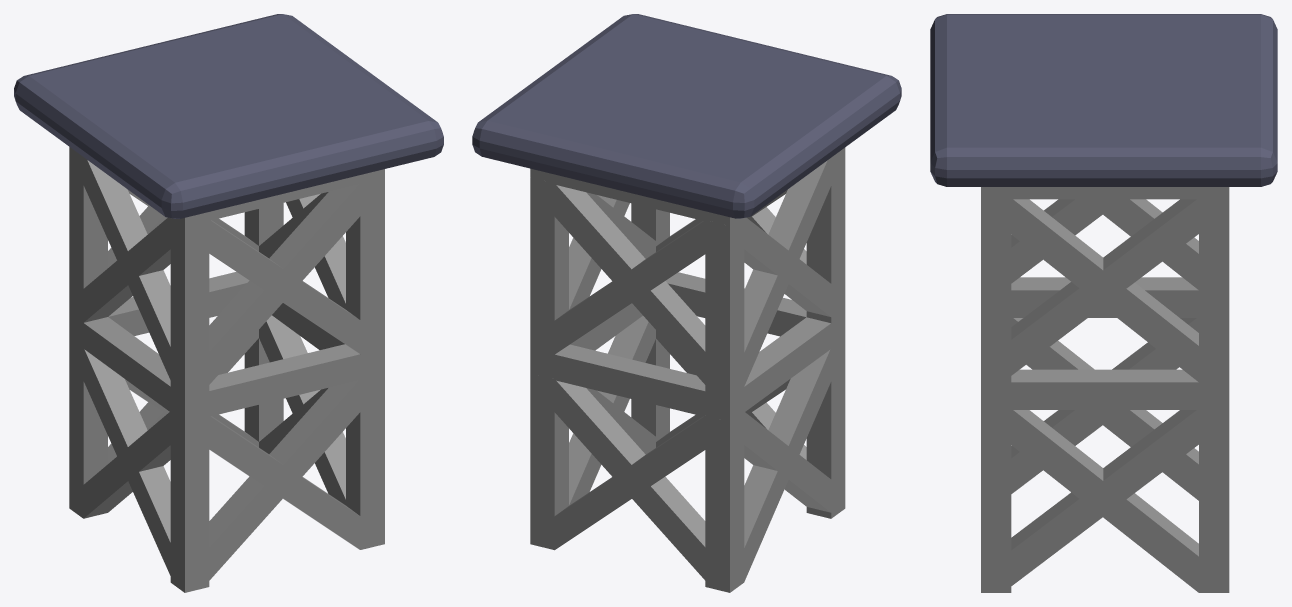
File: RamboPlatformChurch.fbx
3 views of the same model, side by side, from view 1: azimuth 30°, elevation 25°; view 2: azimuth 150°, elevation 25°; view 3: azimuth 270°, elevation 25° (orthographic). The views are drawn at different scales.
Visible parts, largest first — view 1: Cube.004; view 2: Cube.004; view 3: Cube.004.
Boxes of the visible parts, x1=… form: Cube.004: x1=14, y1=14, x2=443, y2=592; Cube.004: x1=472, y1=14, x2=901, y2=592; Cube.004: x1=930, y1=14, x2=1277, y2=592.
Size of the model in its own units: 4.8 by 6.99 by 4.79.
